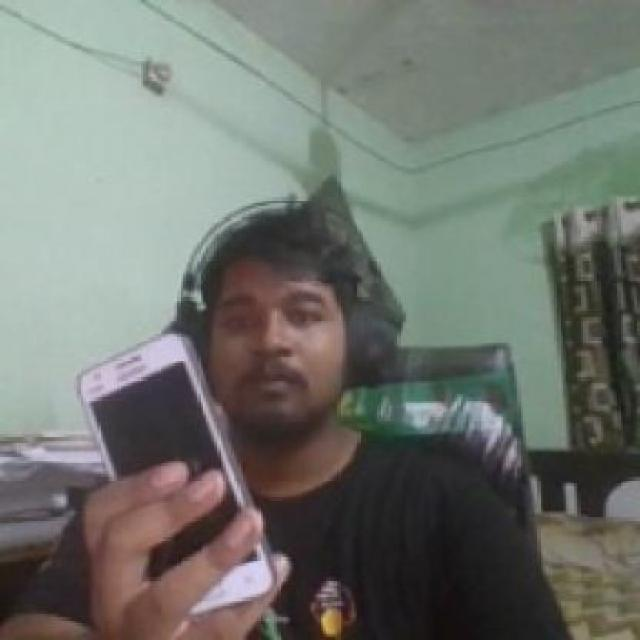Phone: (72, 333, 280, 615)
